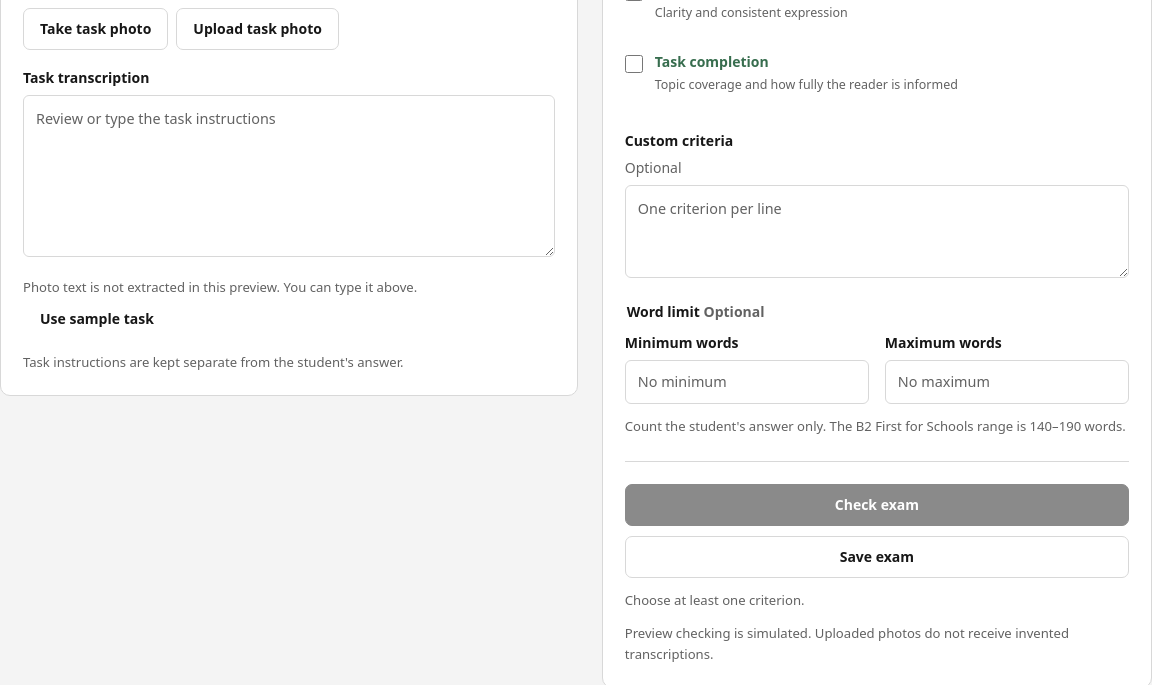
it: CriteriaScreen › rejects invalid word ranges and allows saving without selected checks
(page scrolled)
expect the button "Check exam" is disabled: met, box [625,484,1129,526]
expect the button "Save exam" is enabled: met, box [625,536,1129,578]
Type "300" into the field labelled "Minimum words" at (747, 382), box [625,360,869,404]
(page scrolled)
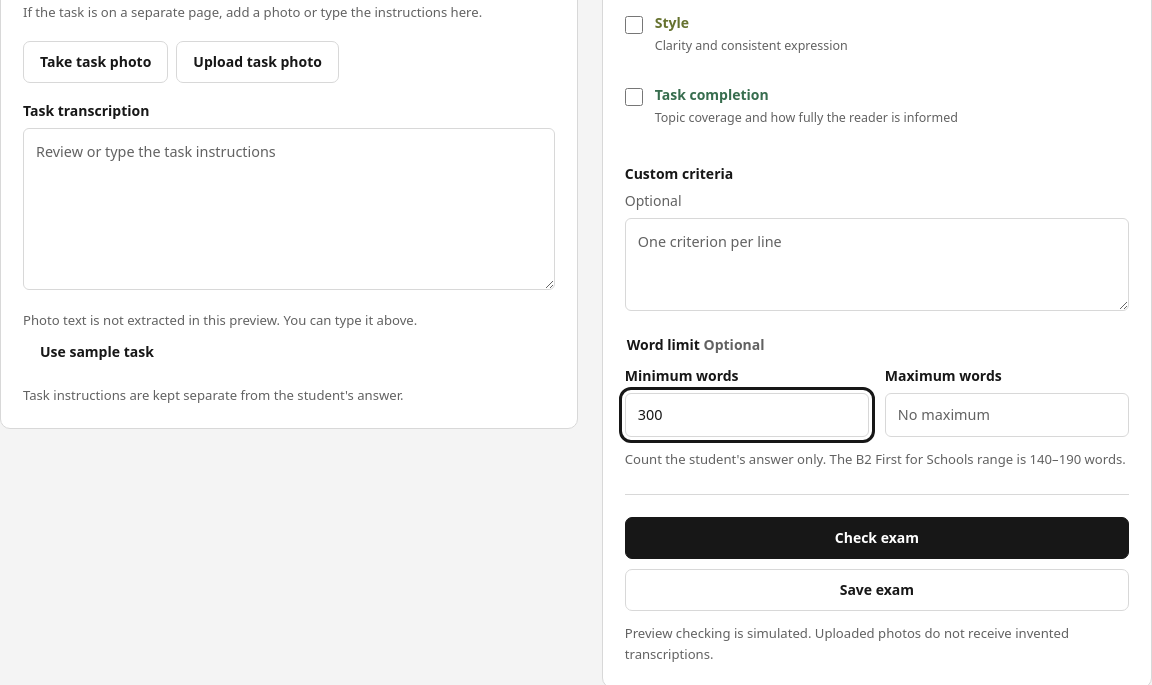
Type "200" into the field labelled "Maximum words" at (1007, 415), box [885,393,1129,437]
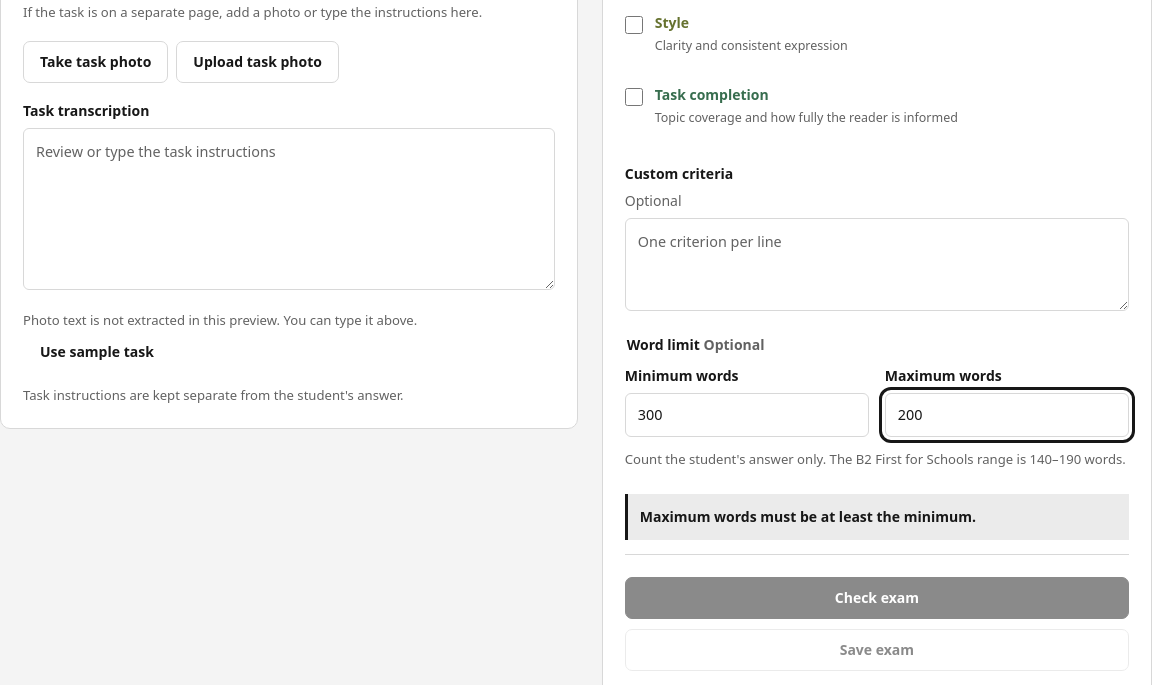
expect the message reads "Maximum words must be at least the minimum.": met, box [640,507,976,526]
expect the button "Save exam" is disabled: met, box [625,629,1129,671]
